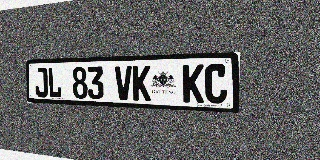3: (87, 66, 104, 99)
8: (72, 67, 88, 99)
C: (205, 64, 227, 104)
J: (34, 67, 48, 97)
K: (183, 64, 204, 103), (132, 65, 151, 101)
L: (48, 67, 62, 98)
V: (115, 66, 132, 100)
